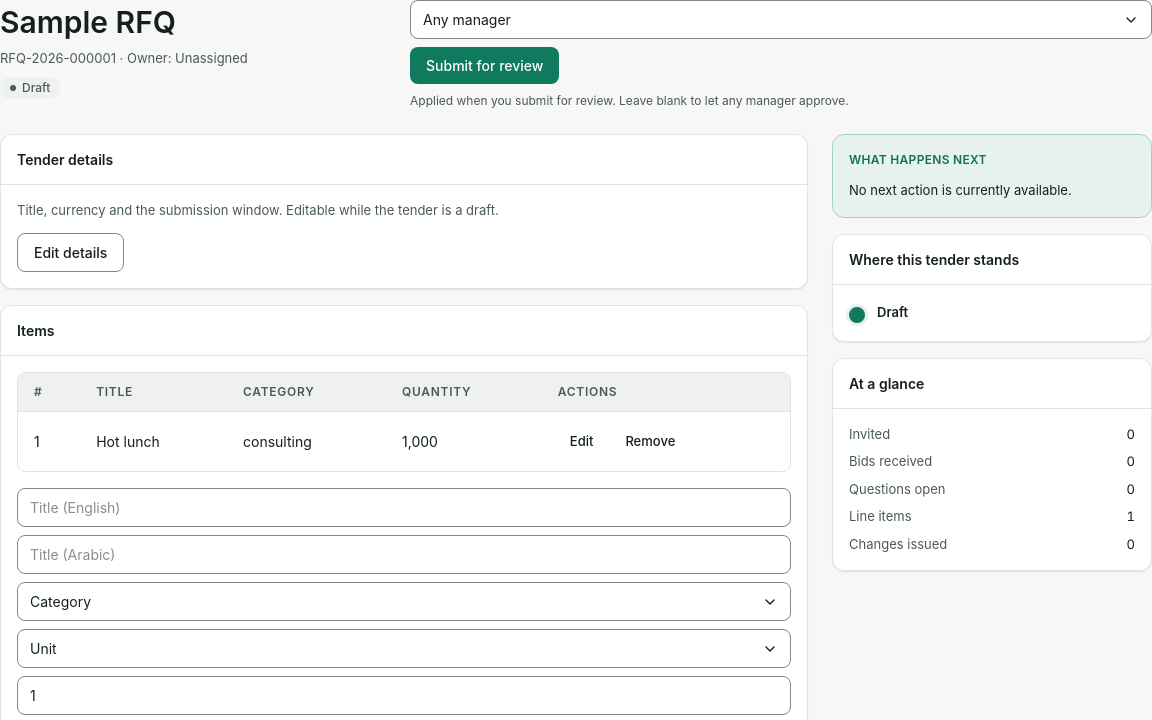
Test: RfqDetailPage › Draft: a line item can be corrected in place rather than deleted and retyped
The width and height of the screenshot is (1152, 720).
Click the button "Edit". click: x=582, y=441
box: [558, 424, 605, 459]
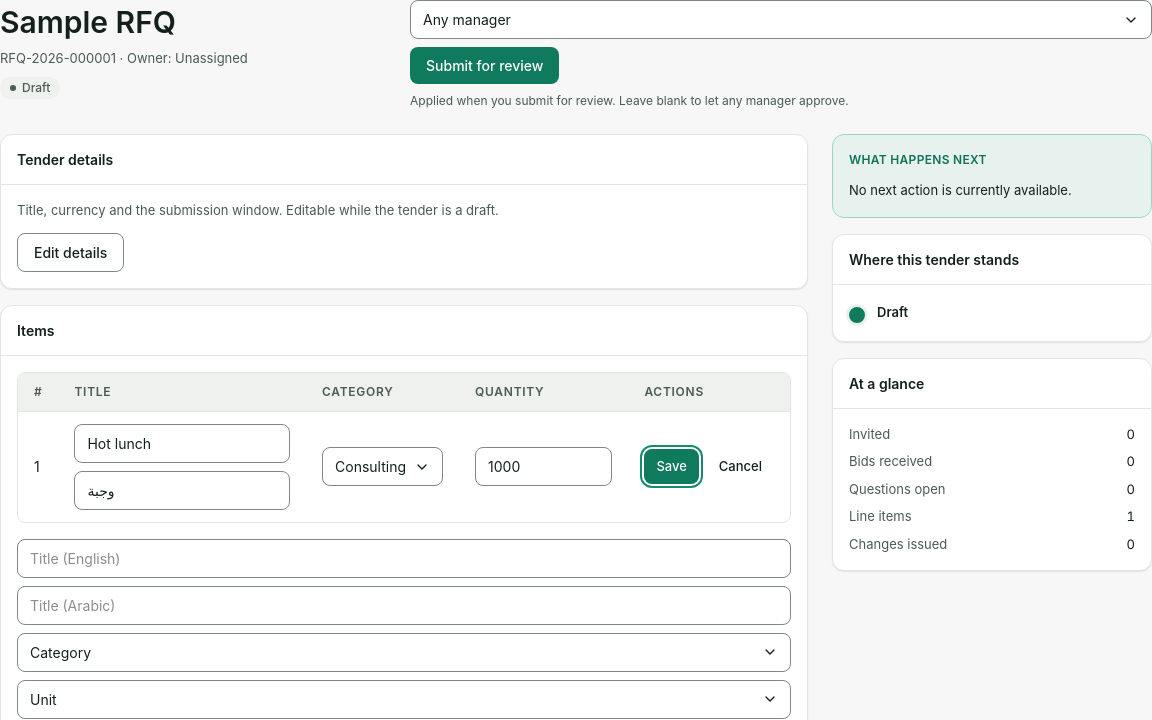
Replace the text in the number field named "Quantity — 1" with "180000". click: x=544, y=466
box: [475, 447, 612, 486]
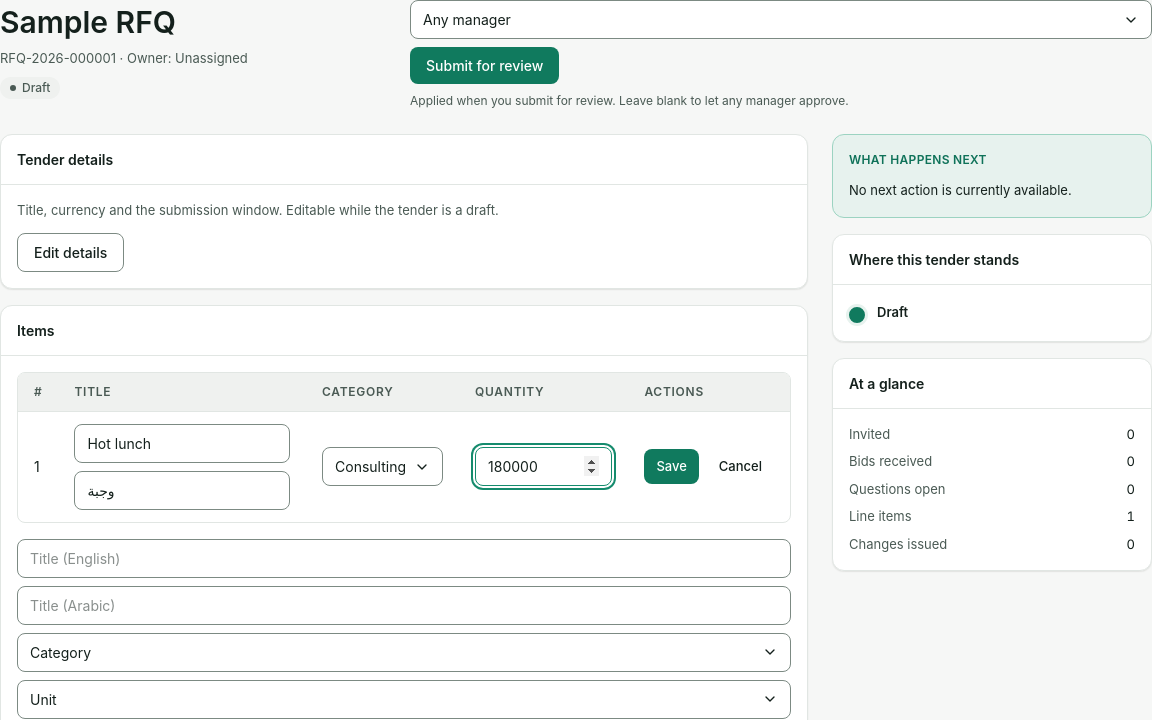
Click the button "Save". click: x=672, y=467
box: [644, 449, 699, 484]
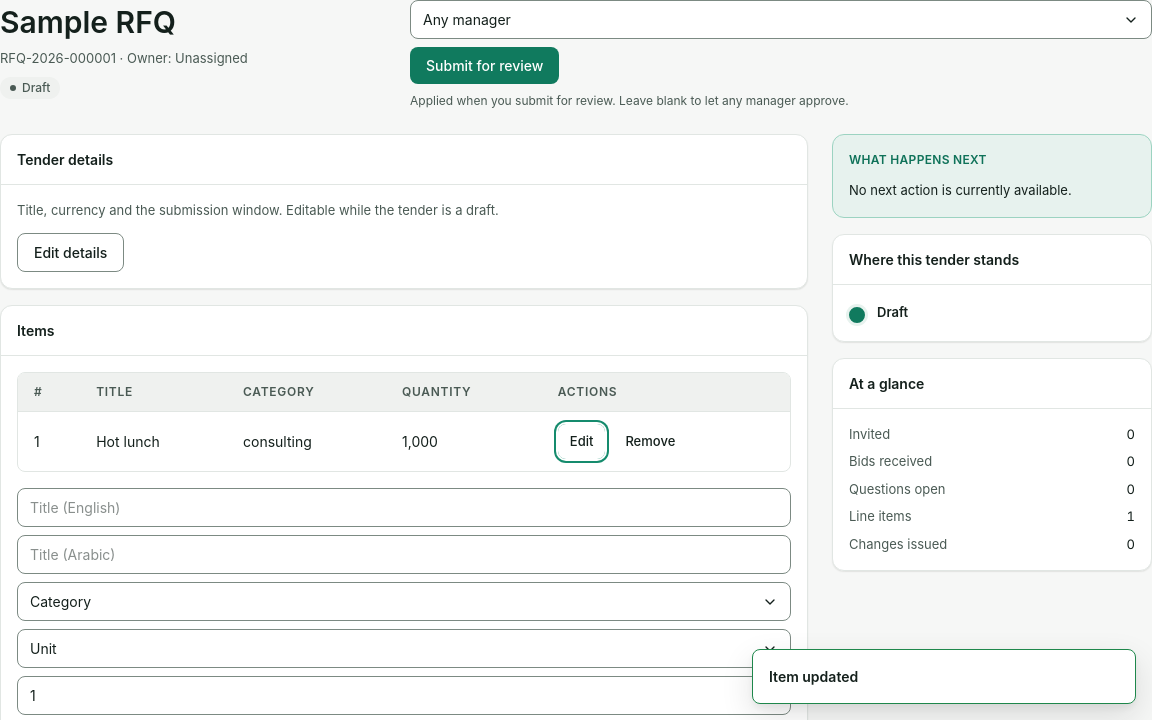
Now the text "Item updated" is shown, box [769, 668, 858, 685]
